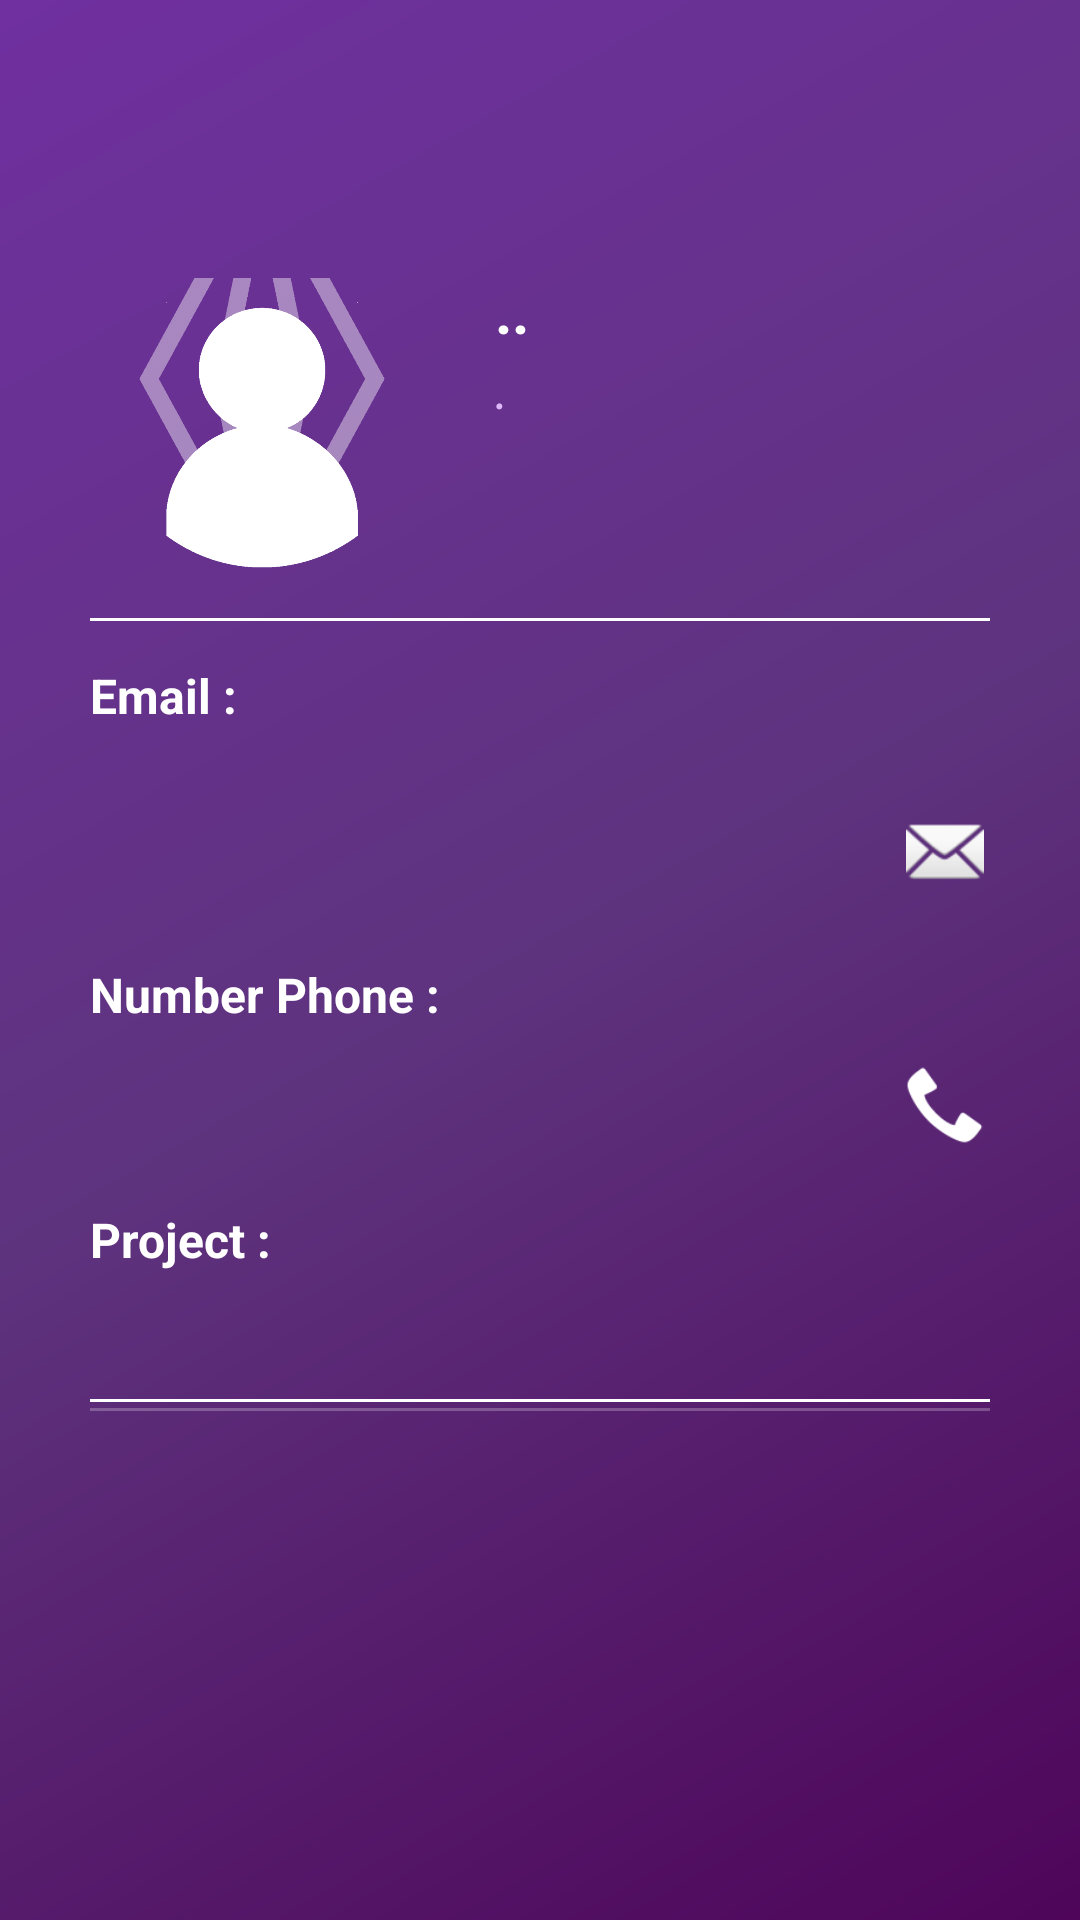

Point at icon controls on the screen. Image size 1080w x 1920h, points as point (x, y).
person for login: point (262, 423)
phone call: point (944, 1105)
